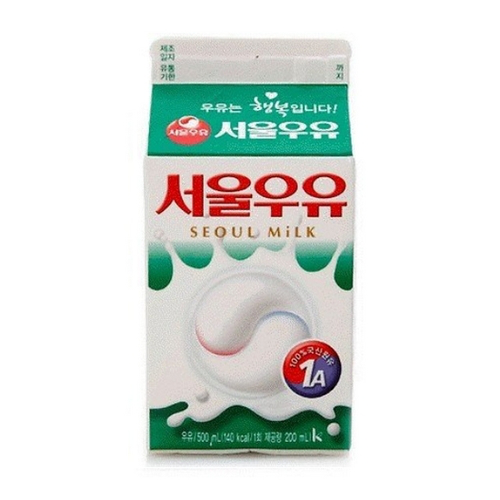milk: (142, 34, 352, 457)
